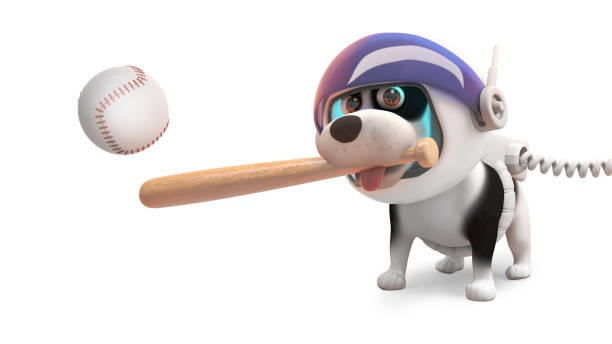bita: (140, 142, 433, 208)
